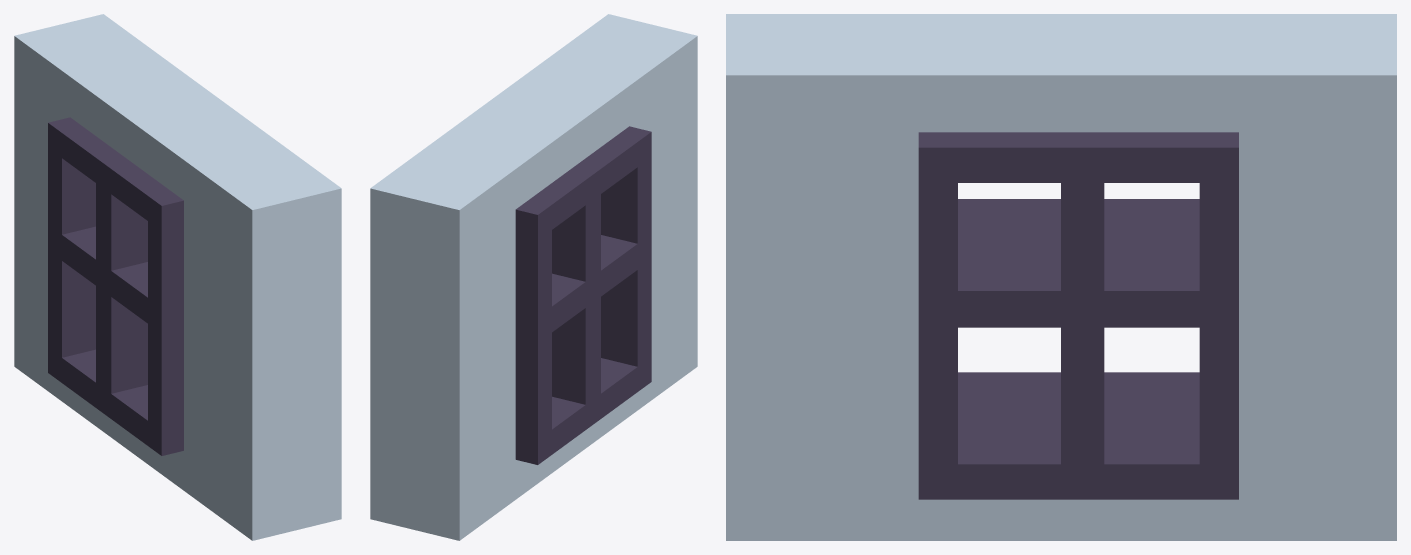
The model's file is MediumWall1.fbx.
3 renders of one model, left to right at view 1: azimuth 30°, elevation 25°; view 2: azimuth 150°, elevation 25°; view 3: azimuth 270°, elevation 25°, orthographic. The views are drawn at different scales.
Parts seen in each view (by area): view 1: WallMedium1; view 2: WallMedium1; view 3: WallMedium1.
Part boxes in pixels (bbox=[...]): WallMedium1: bbox=[14, 14, 341, 540]; WallMedium1: bbox=[370, 14, 697, 540]; WallMedium1: bbox=[726, 14, 1396, 540].
Size of the model in its own units: 38.23 by 90.25 by 118.
